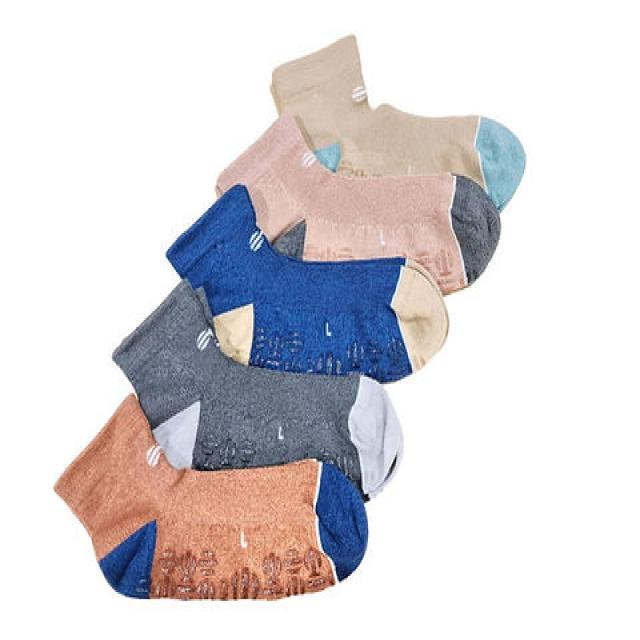sock: (54, 291, 488, 598), (199, 50, 550, 282)
